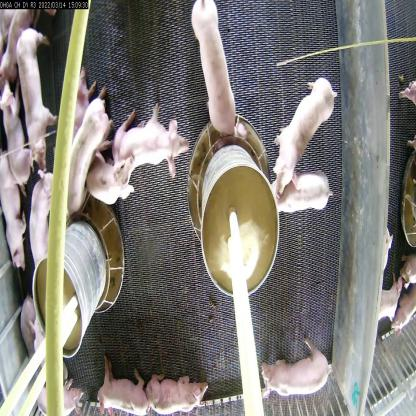Pig: (268, 73, 336, 199), (184, 0, 243, 138), (63, 89, 107, 217), (116, 111, 186, 182), (15, 19, 48, 168), (252, 343, 328, 404), (1, 77, 37, 204), (262, 174, 329, 221), (143, 370, 212, 415), (0, 150, 23, 284), (29, 154, 58, 252), (84, 154, 135, 206), (99, 370, 157, 415)
